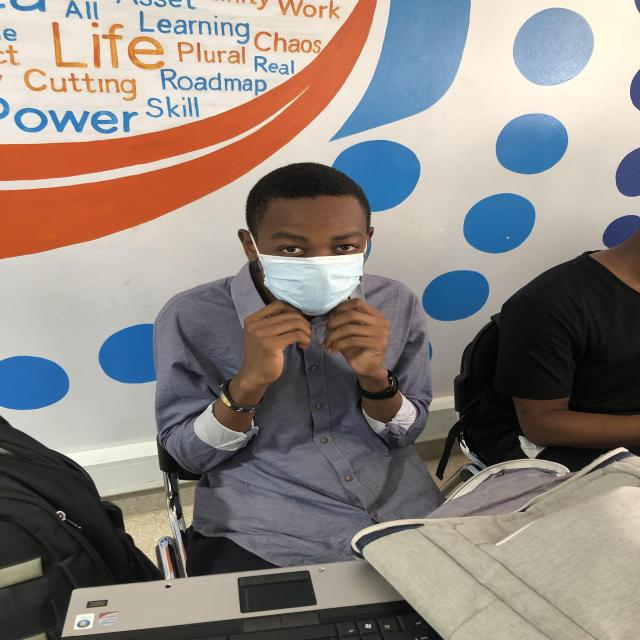no-helmet: (252, 194, 368, 316)
